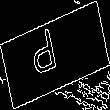P_S: (38, 26, 72, 84)
